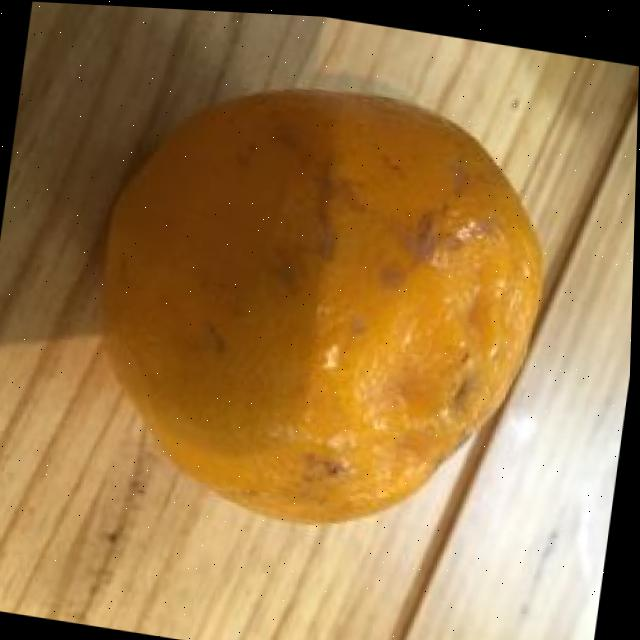Wet: (78, 50, 574, 551)
